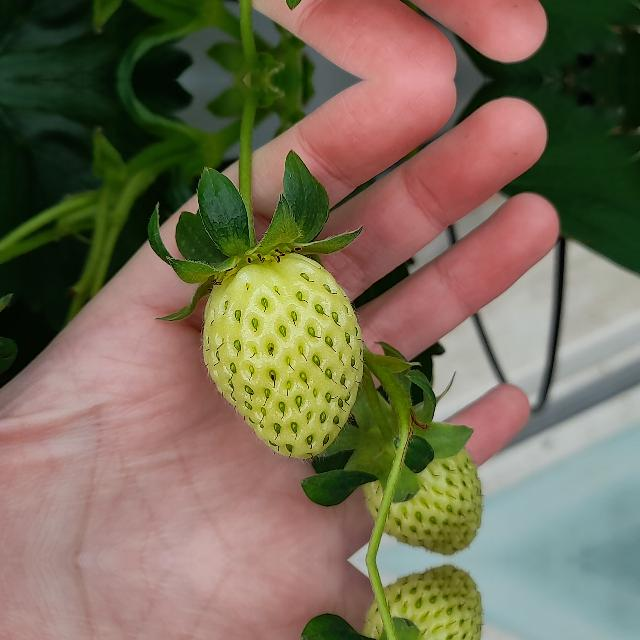Health_25: (202, 252, 364, 458)
